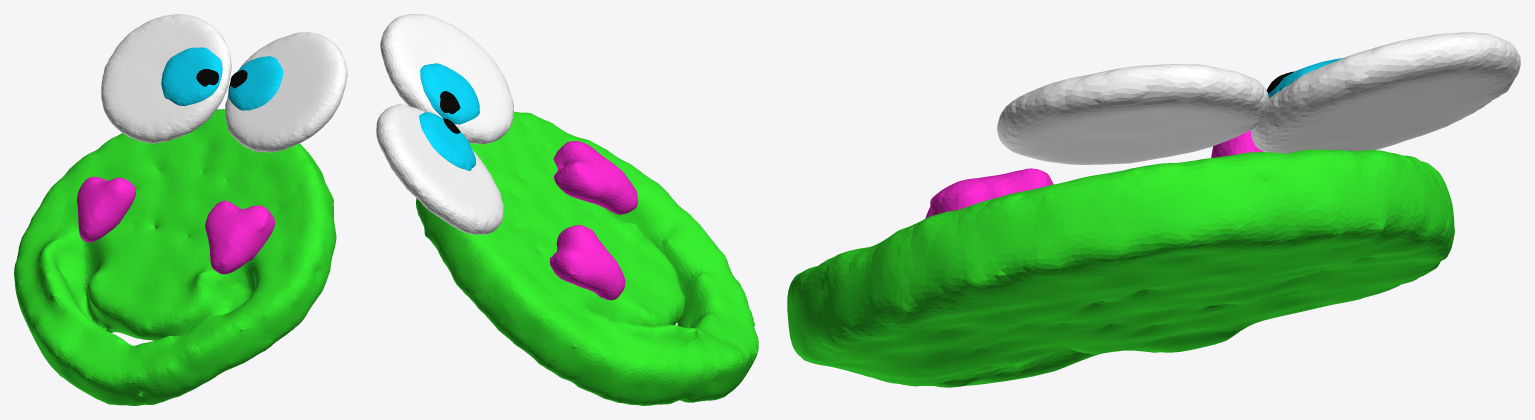
Rendered from frog.obj.
3 views of the same model, side by side, from view 1: azimuth 30°, elevation 25°; view 2: azimuth 150°, elevation 25°; view 3: azimuth 270°, elevation 25° (orthographic). The views are drawn at different scales.
Size of the model in its own units: 0.5828 by 0.5251 by 0.6323.
